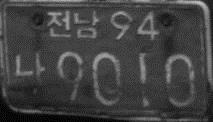0: (91, 51, 122, 107), (164, 52, 195, 108)
1: (133, 50, 153, 109)
4: (135, 9, 159, 41)
9: (56, 50, 84, 103), (110, 9, 133, 42)
나: (14, 52, 47, 89)
전남_O: (46, 9, 98, 38)
